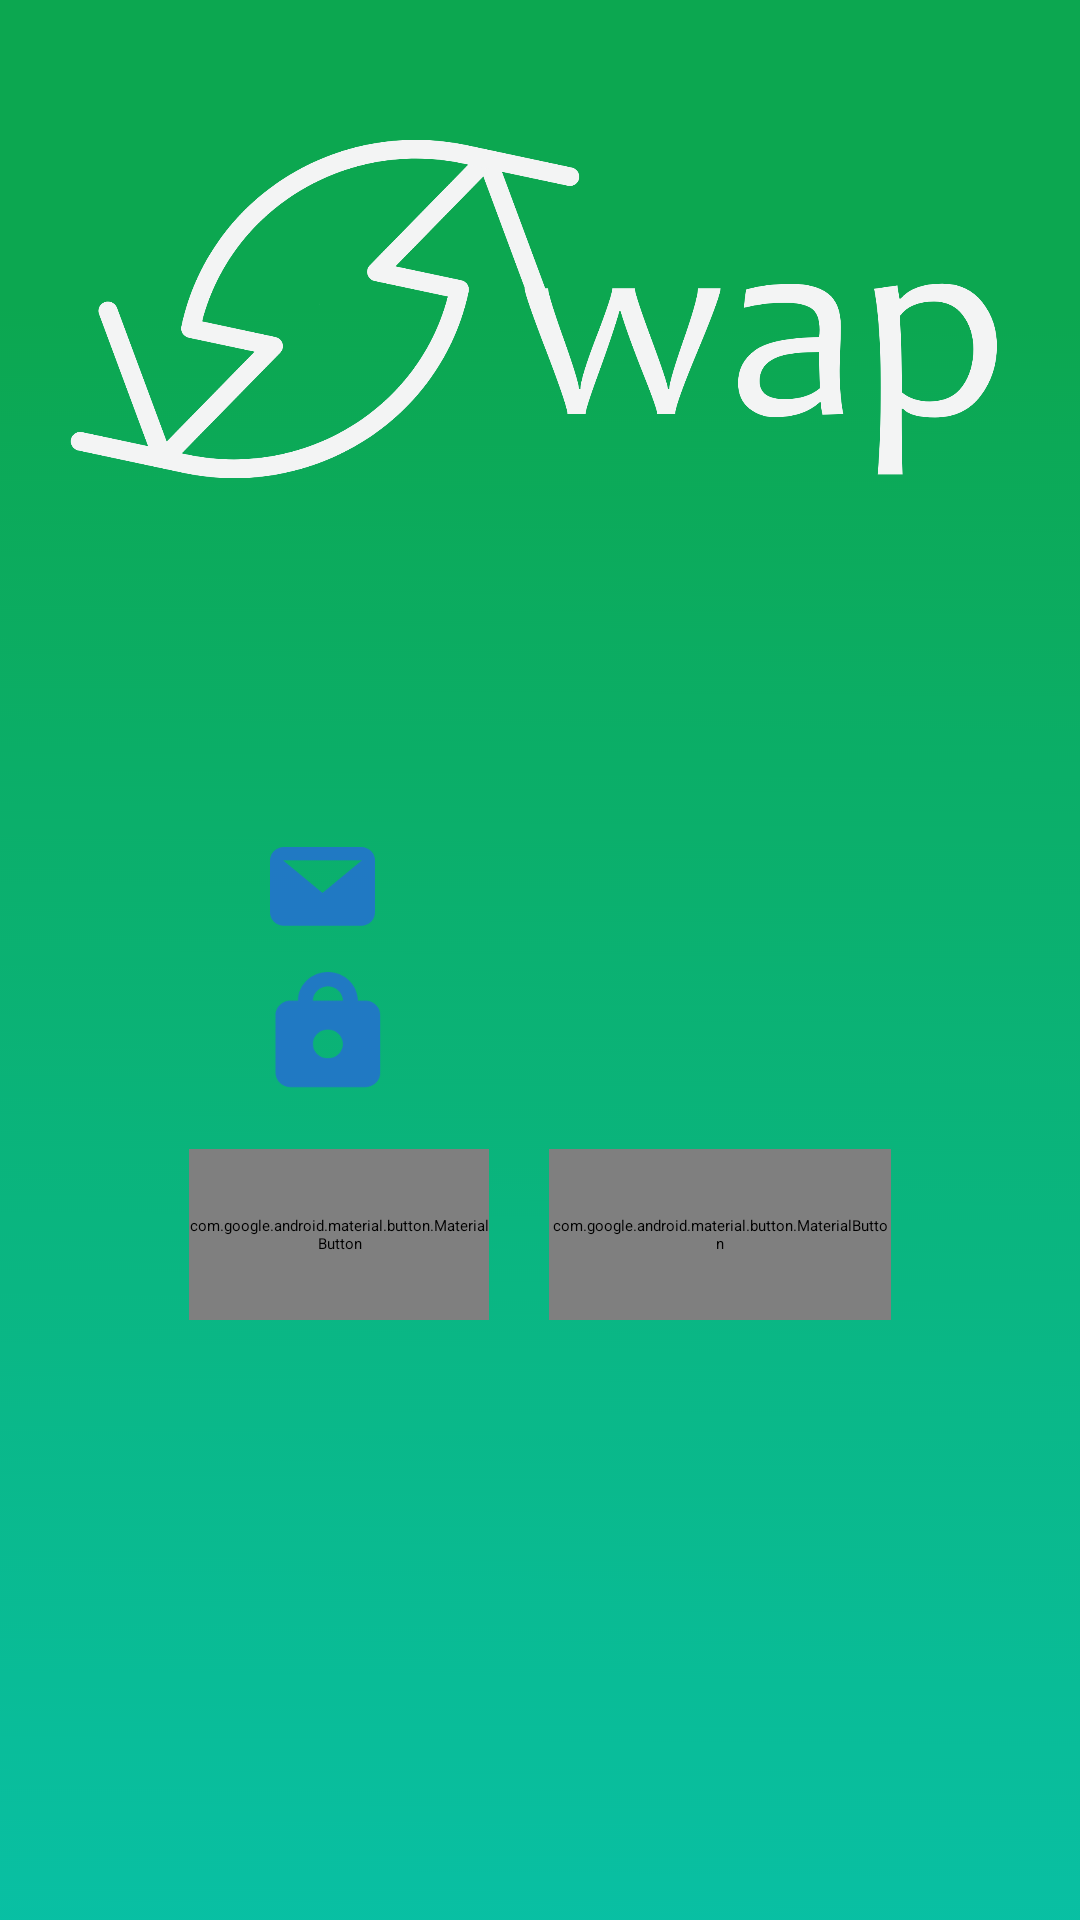

Where to tap for icons on this 1080 × 1920 app screen, as (x=x, y=y):
lock: (x=327, y=1029)
mail: (x=322, y=886)
